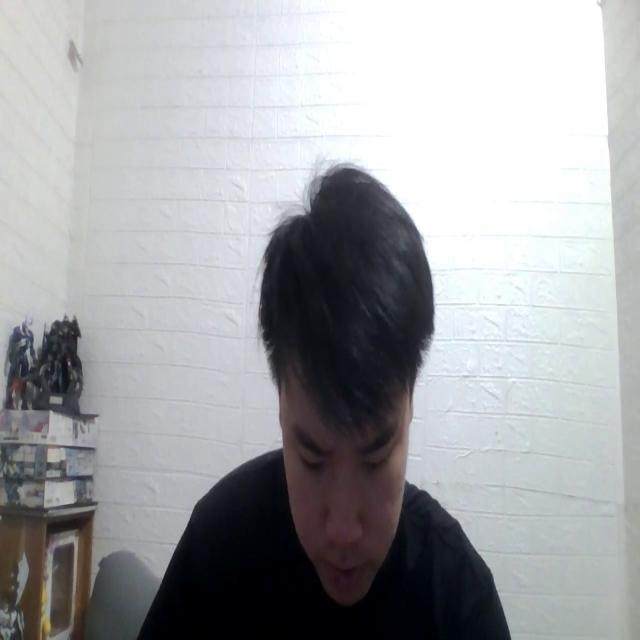student: (132, 154, 508, 640)
